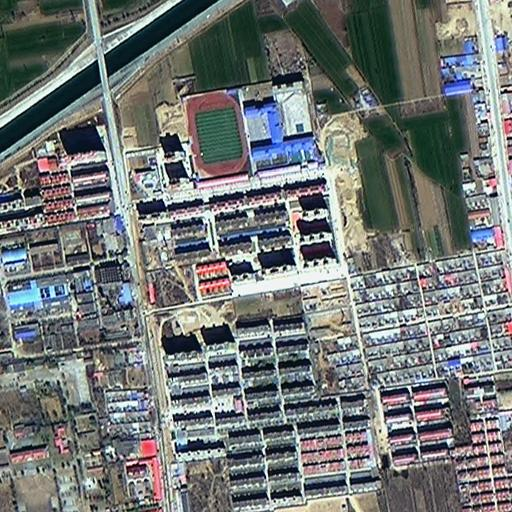school: (182, 77, 313, 185)
